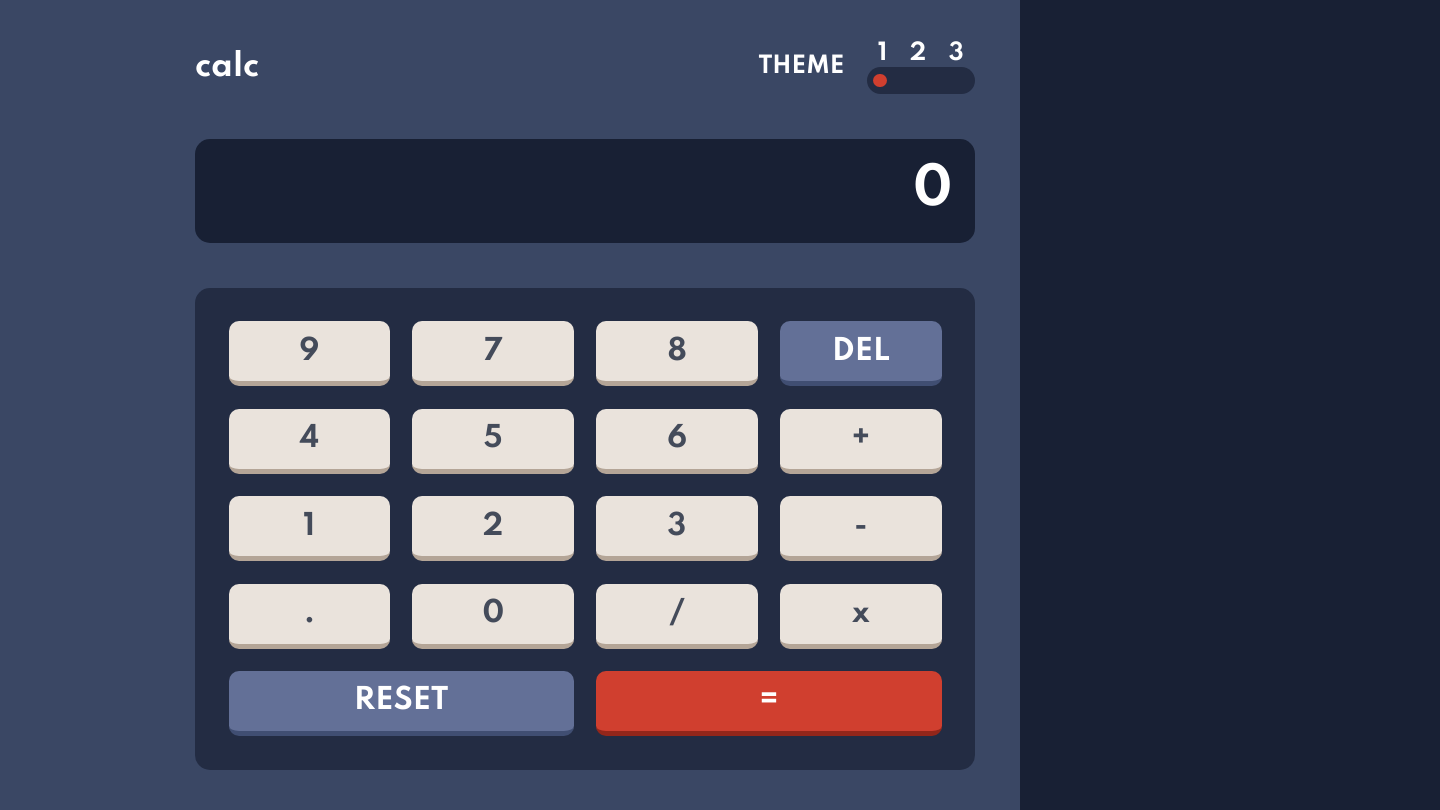
Test case: number key pressed › changes the current display
Click the button "1": click(309, 529) [229,496,390,561]
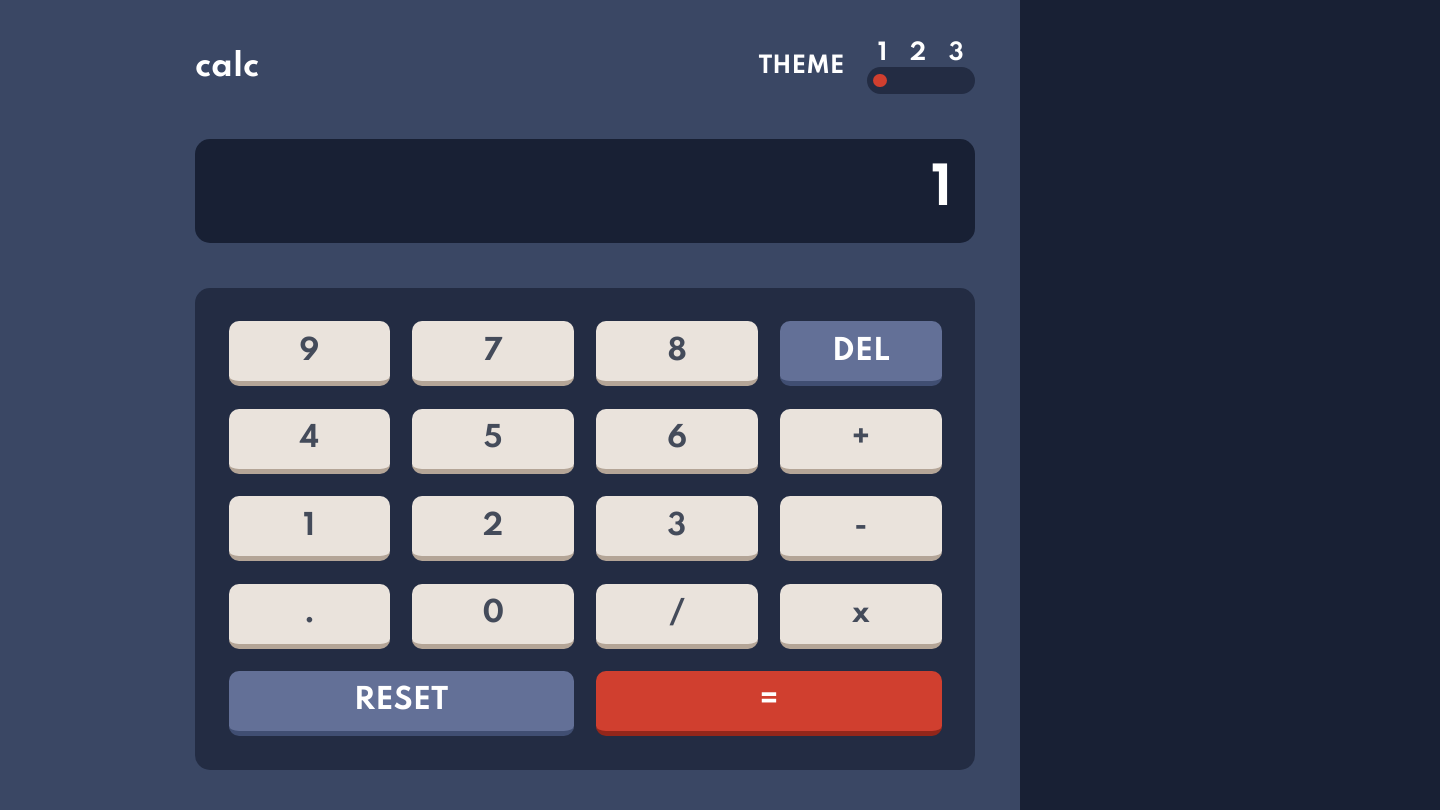
Click the button "0": click(493, 616) [412,584,574,648]
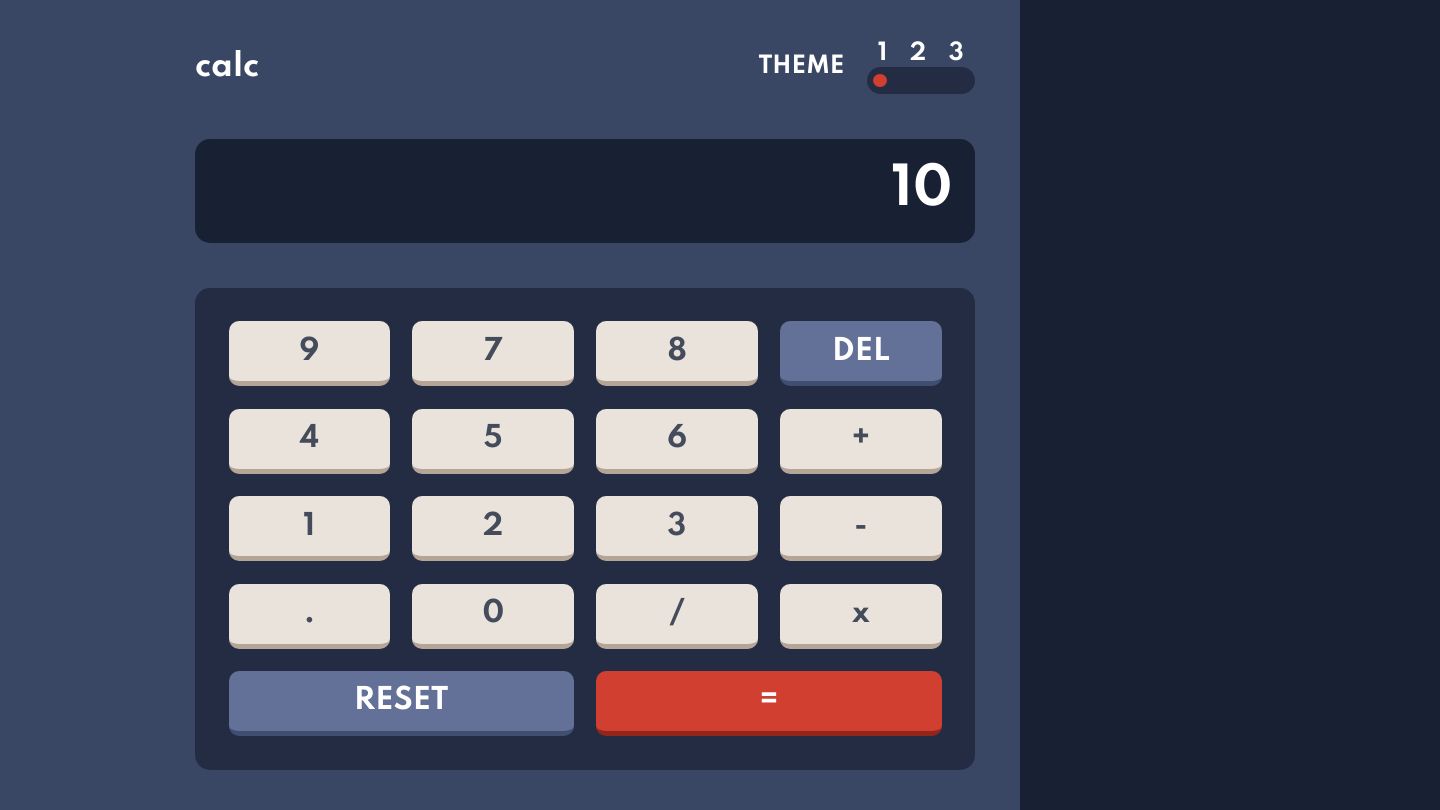
Check: the text "0" reads "10", box [892,162,952,218]
